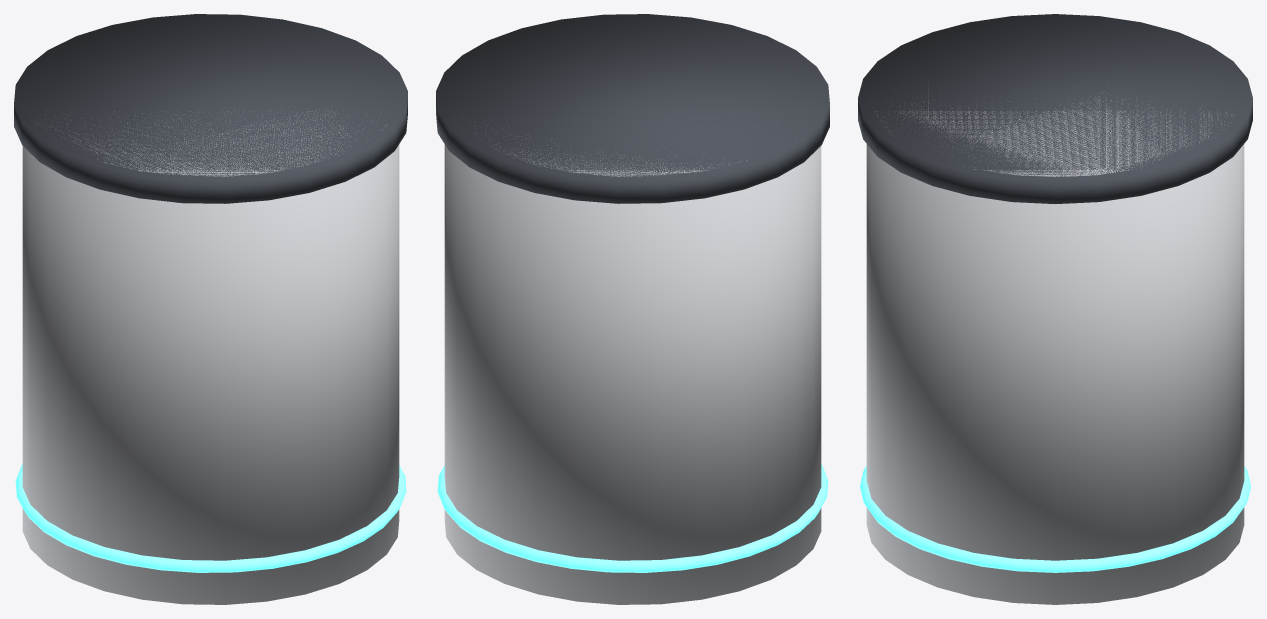
The model's file is side_table_cylinder.glb.
3 views of the same model, side by side, from view 1: azimuth 30°, elevation 25°; view 2: azimuth 150°, elevation 25°; view 3: azimuth 270°, elevation 25° (orthographic).
Visible parts, largest first — view 1: GD_side_table_cylinder__m0, GD_side_table_cylinder__m2, GD_side_table_cylinder__m1; view 2: GD_side_table_cylinder__m0, GD_side_table_cylinder__m2, GD_side_table_cylinder__m1; view 3: GD_side_table_cylinder__m0, GD_side_table_cylinder__m2, GD_side_table_cylinder__m1.
Boxes of the visible parts, x1,y1,x2,y2 form: GD_side_table_cylinder__m0: (22,110,399,604); GD_side_table_cylinder__m2: (14,14,407,203); GD_side_table_cylinder__m1: (15,464,406,572); GD_side_table_cylinder__m0: (444,128,821,604); GD_side_table_cylinder__m2: (436,14,829,203); GD_side_table_cylinder__m1: (437,464,828,572); GD_side_table_cylinder__m0: (866,84,1244,604); GD_side_table_cylinder__m2: (858,14,1252,203); GD_side_table_cylinder__m1: (860,466,1250,572).
Bounding box in the file's own units: 0.46 × 0.55 × 0.46.
